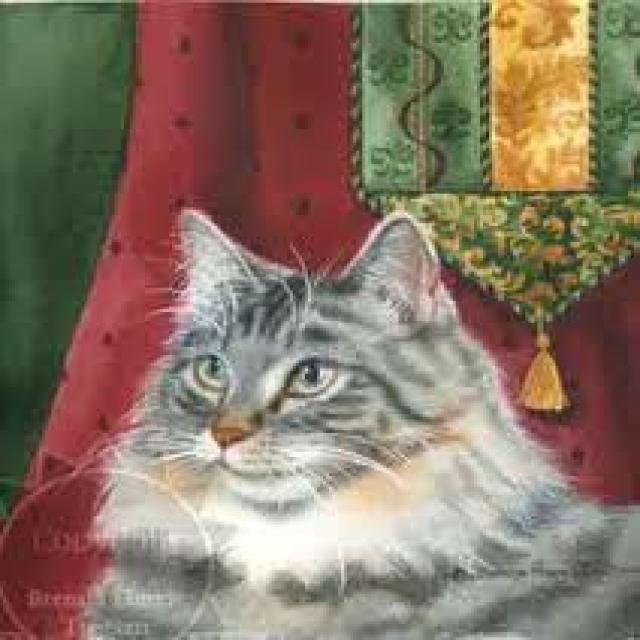Maine_Coon: (125, 203, 467, 515)
